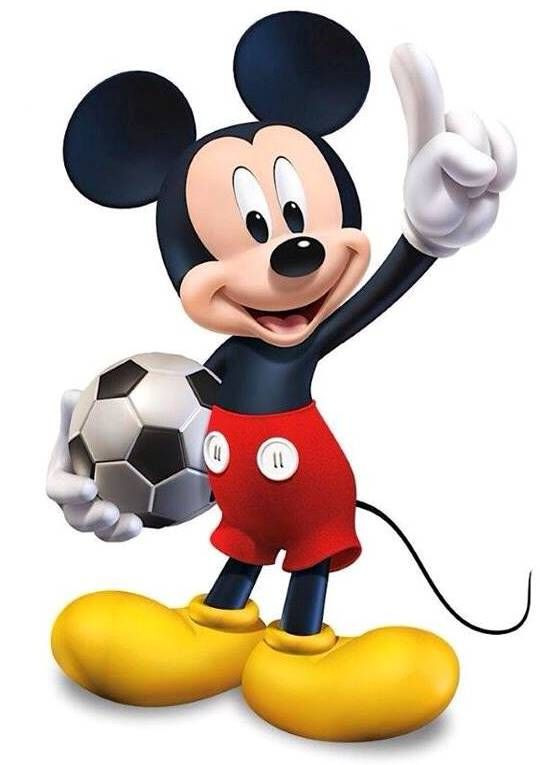Mickey: (59, 7, 380, 351)
